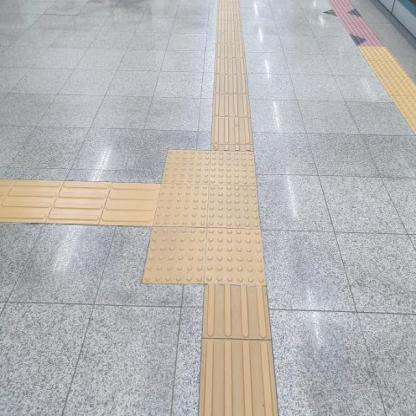podotacti: (131, 121, 293, 316), (327, 0, 416, 132), (196, 288, 280, 415), (0, 175, 156, 231), (210, 0, 253, 152)
